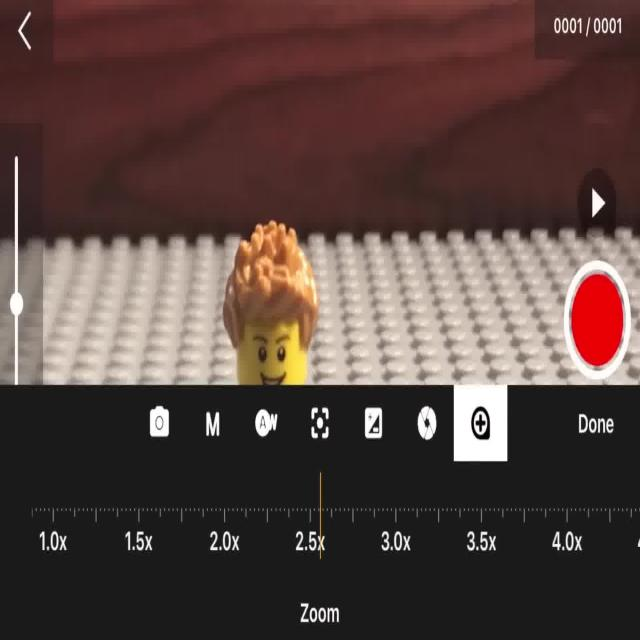hand: (221, 222, 319, 386)
